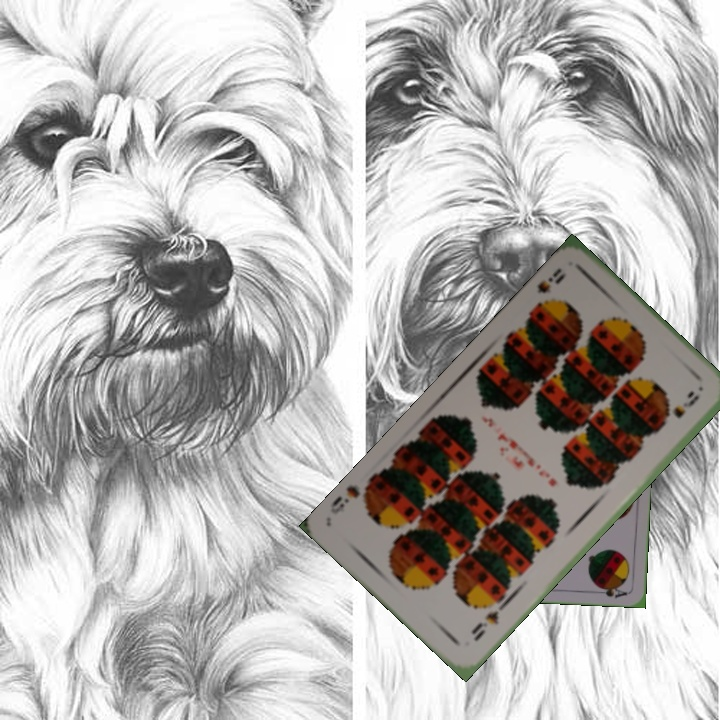S9: (528, 264, 569, 312), (466, 600, 507, 645)
